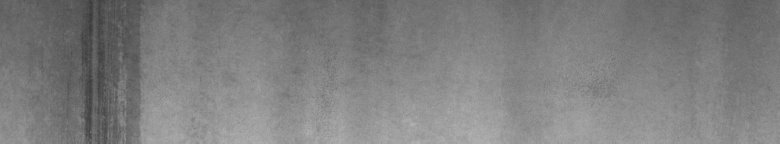ka: (76, 4, 144, 136)
